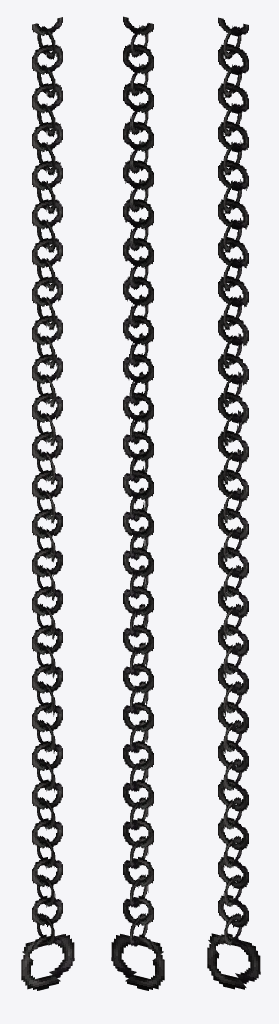
Rendered from OC_LOB_CHAIN.glb.
3 renders of one model, left to right at view 1: azimuth 30°, elevation 25°; view 2: azimuth 150°, elevation 25°; view 3: azimuth 330°, elevation 25°, orthographic.
Visible parts, largest first — view 1: Mesh; view 2: Mesh; view 3: Mesh.
Part boxes in pixels (x1,y1,x2,y2): Mesh: (21,17,74,990); Mesh: (111,16,164,990); Mesh: (207,17,260,989).
Size of the model in its own units: 0.3999 by 5.85 by 0.2001.
1 material, 1 textured.
